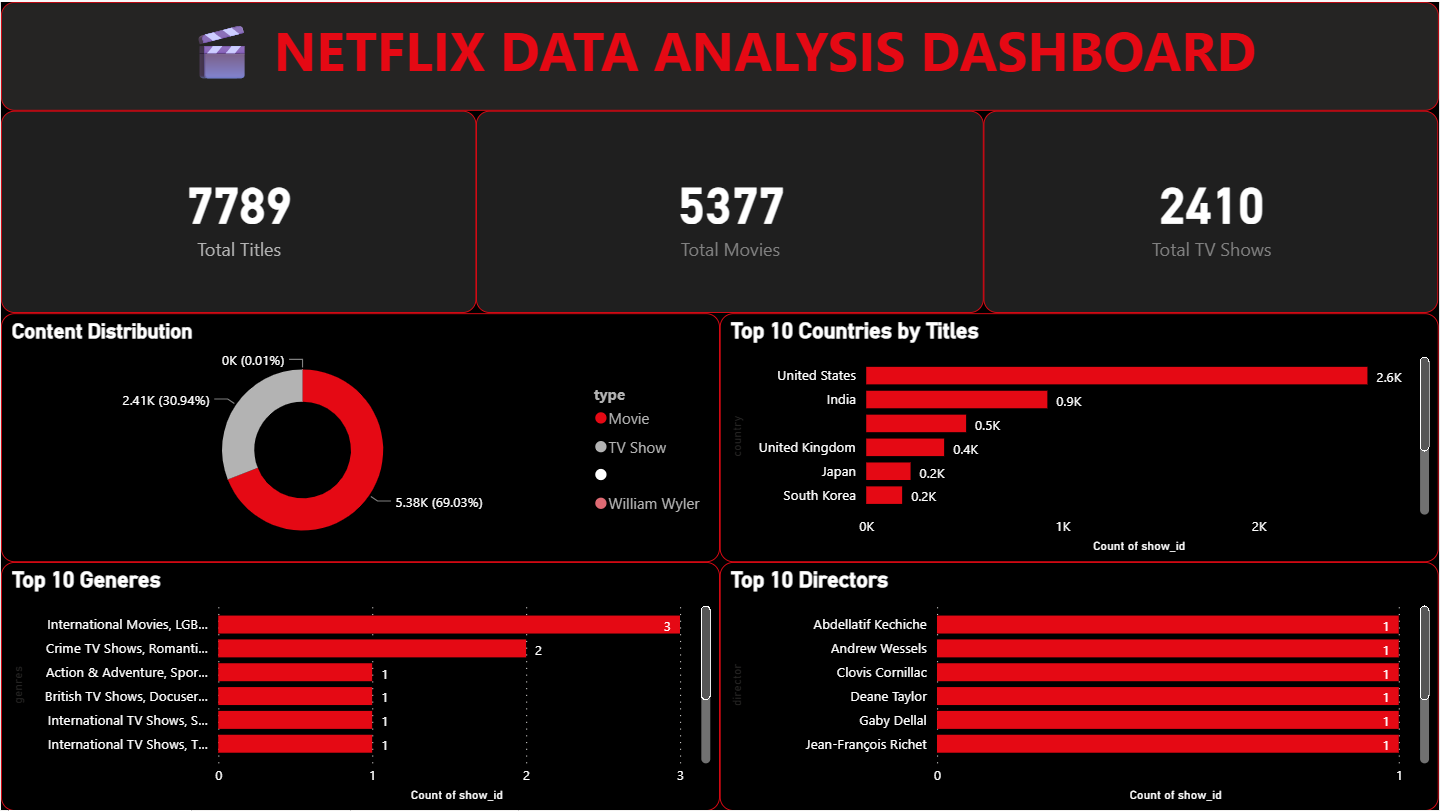

Layout of this report page (visuals, bound fields, positions):
{"tool":"powerbi","page":{"name":"Executive Overview","canvas":[1280,720],"ordinal":0},"visuals":[{"type":"card","fields":{"Values":["NetFlix.Total Titles"]},"box":[0,96.8,422.9,180.3],"z":0},{"type":"card","fields":{"Values":["NetFlix.Total Movies"]},"box":[422.9,96.8,451.8,180.3],"z":1000},{"type":"card","fields":{"Values":["NetFlix.Total TV Shows"]},"box":[874.7,96.8,405.1,180.3],"z":2000},{"type":"donutChart","title":"Content Distribution","fields":{"Category":["NetFlix.type"],"Y":["Count(NetFlix.show_id)"]},"box":[0,277.1,639.9,221.5],"z":3000},{"type":"clusteredBarChart","title":"Top 10 Countries by Titles","fields":{"Category":["NetFlix.country"],"Y":["Count(NetFlix.show_id)"]},"box":[639.9,277.1,639.9,221.5],"z":4000},{"type":"clusteredBarChart","title":"Top 10 Generes","fields":{"Category":["NetFlix.genres"],"Y":["CountNonNull(NetFlix.show_id)"]},"box":[0,498.5,639.9,221.5],"z":5000},{"type":"clusteredBarChart","title":"Top 10 Directors","fields":{"Category":["NetFlix.director"],"Y":["CountNonNull(NetFlix.show_id)"]},"box":[639.9,498.5,639.9,221.5],"z":6000},{"type":"textbox","box":[0,0,1279.8,96.8],"z":7000}]}

Visuals, with their boxes in screenshot pixels (x1, y1, x2, y2), scaled from the page's 1280x720 canvas onto the 1440x811 screenshot:
card - NetFlix.Total Titles: <box>0,109,476,312</box>
card - NetFlix.Total Movies: <box>476,109,984,312</box>
card - NetFlix.Total TV Shows: <box>984,109,1439,312</box>
"Content Distribution" donutChart: <box>0,312,720,562</box>
"Top 10 Countries by Titles" clusteredBarChart: <box>720,312,1439,562</box>
"Top 10 Generes" clusteredBarChart: <box>0,562,720,810</box>
"Top 10 Directors" clusteredBarChart: <box>720,562,1439,810</box>
textbox: <box>0,0,1439,109</box>
